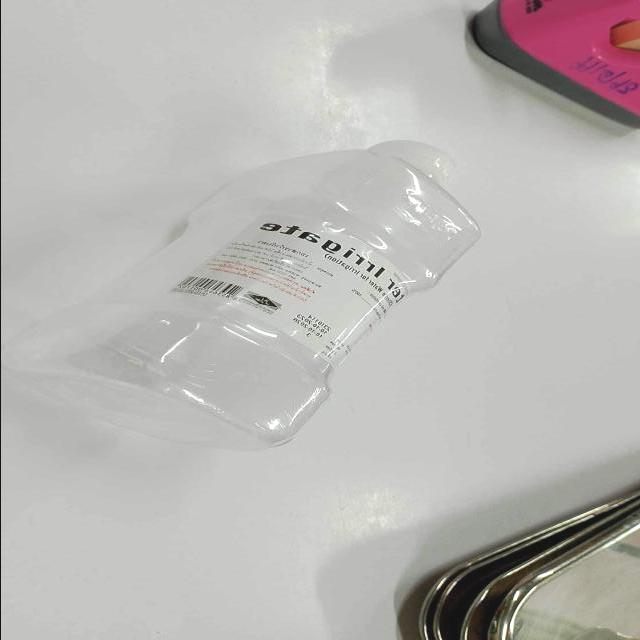Infectious: (4, 141, 483, 453)
Sharps: (416, 489, 640, 640), (470, 1, 640, 133)
